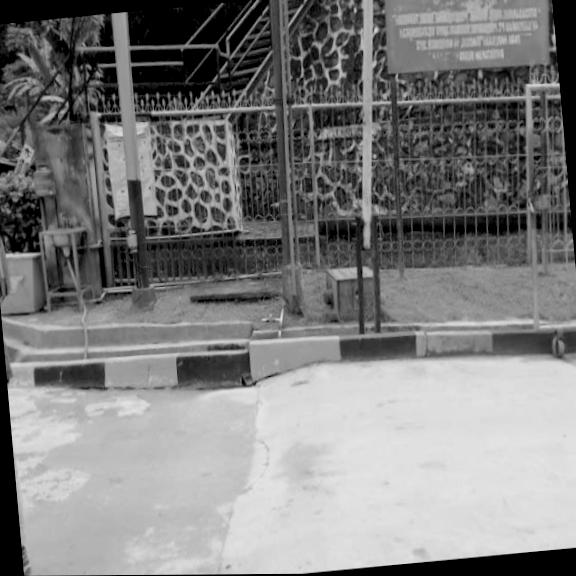safety_vest: (0, 224, 12, 303)
